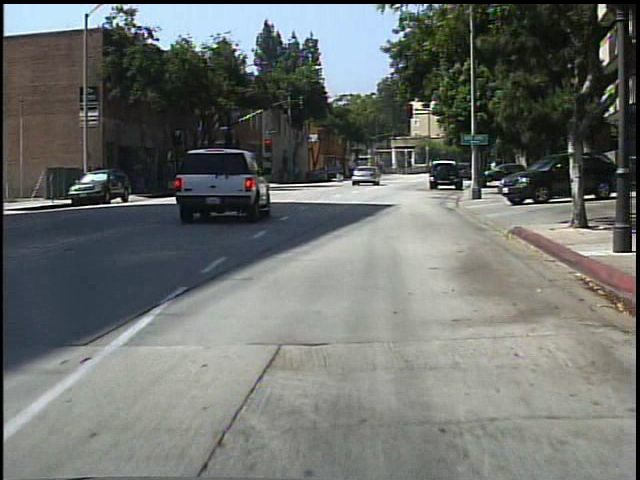person: (487, 158, 501, 184), (335, 166, 348, 185)
